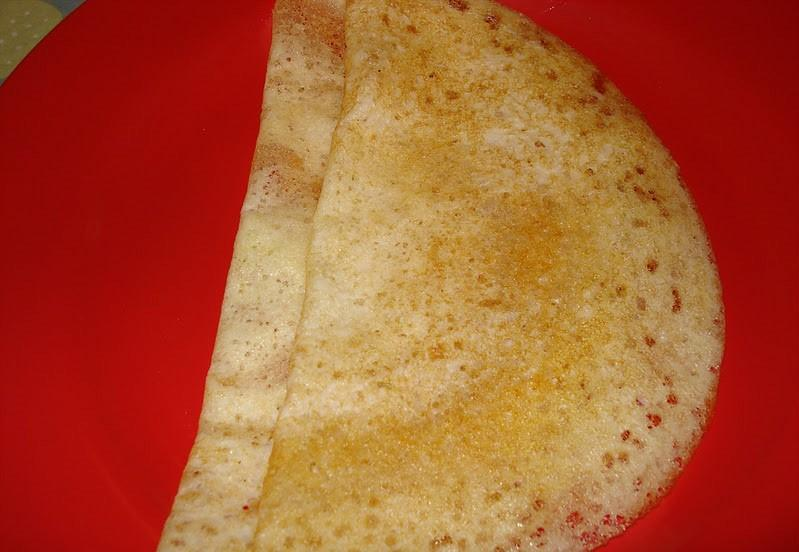Dosa: (246, 0, 720, 551), (157, 0, 375, 552)
